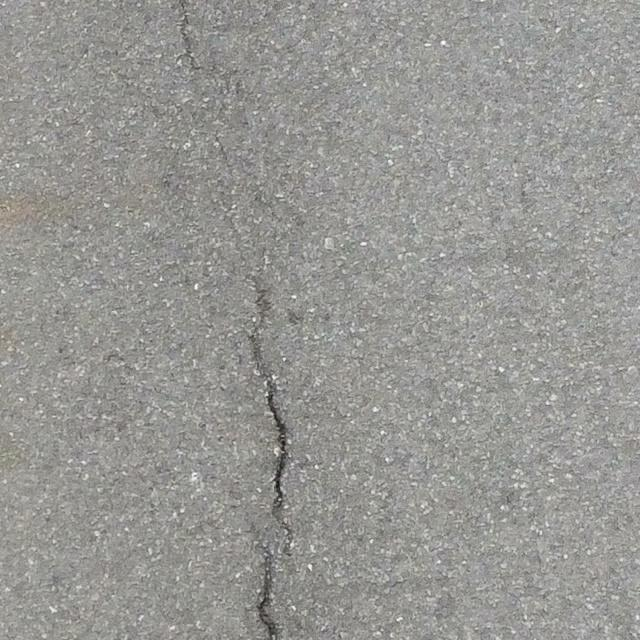LongitudinalCrack: (247, 272, 296, 556), (248, 521, 280, 640)
